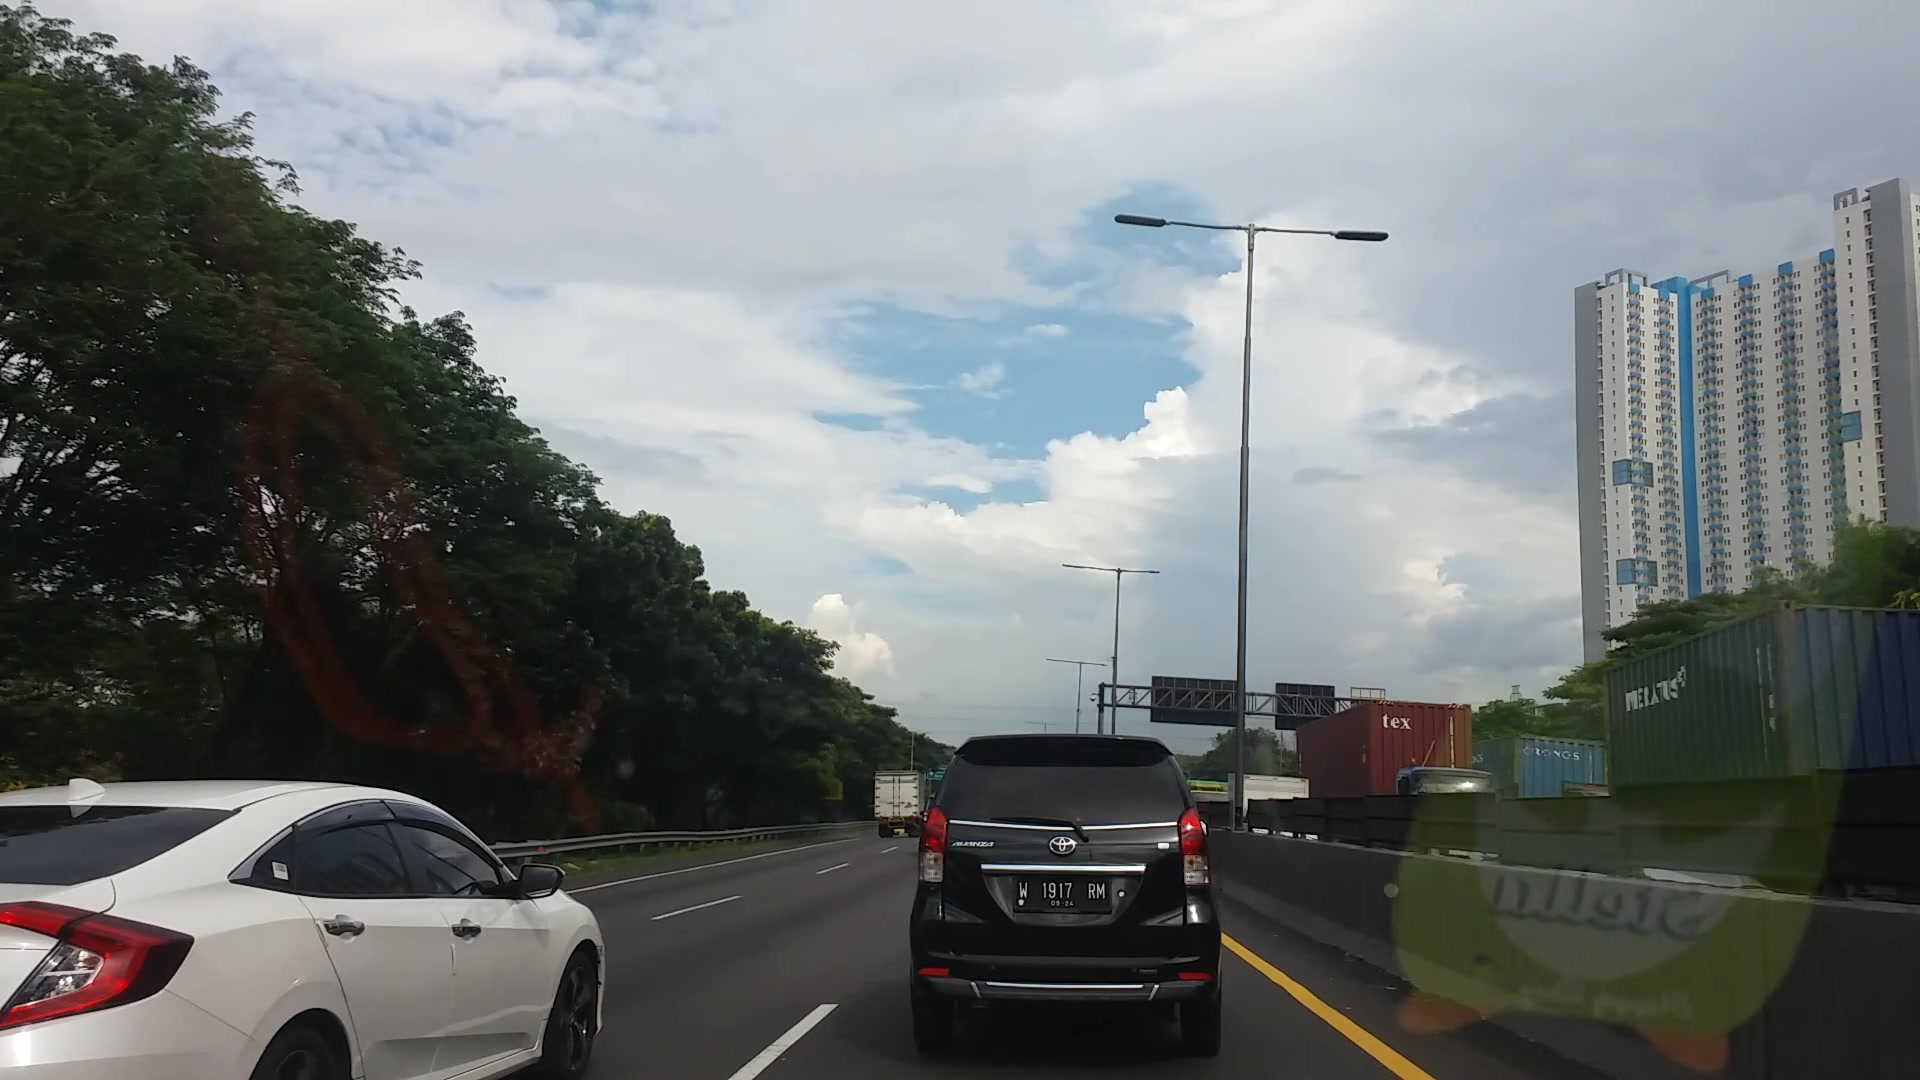plate_positive: (1015, 878, 1108, 909)
